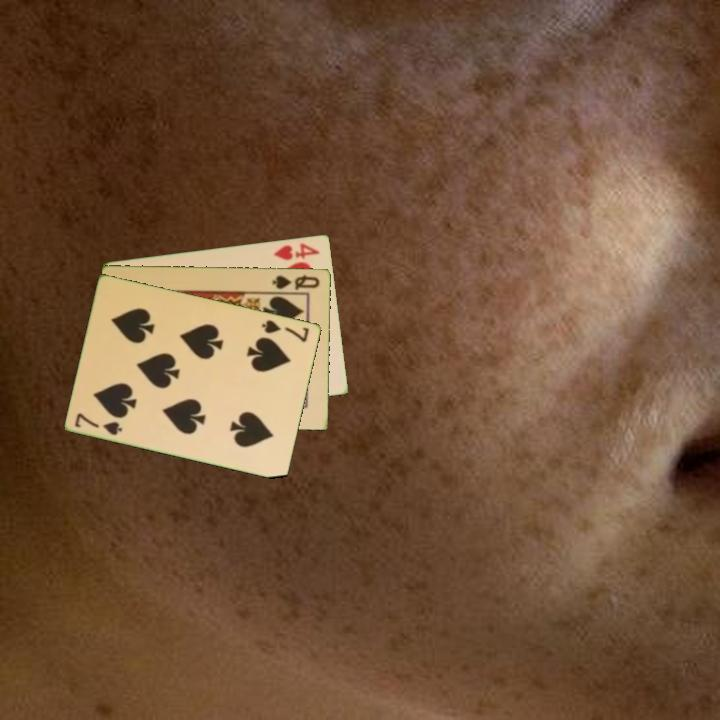4h: (271, 239, 323, 263)
7s: (71, 409, 126, 438), (258, 316, 312, 345)
Qs: (269, 271, 323, 292)
